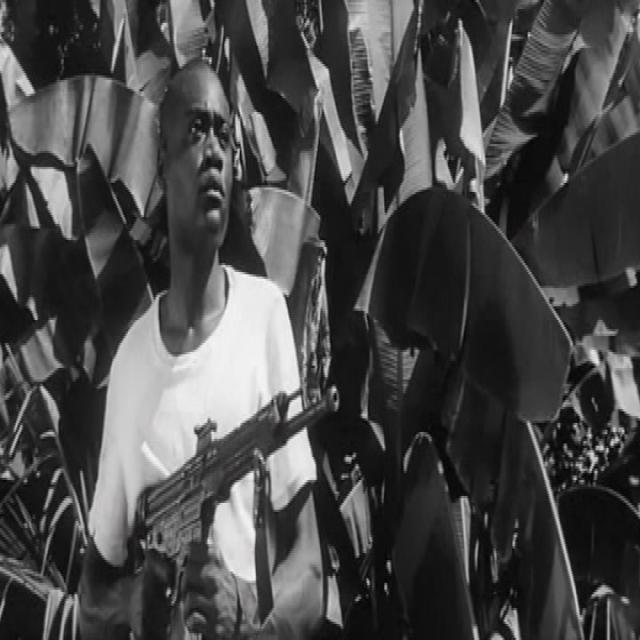rifle: (130, 374, 343, 579)
